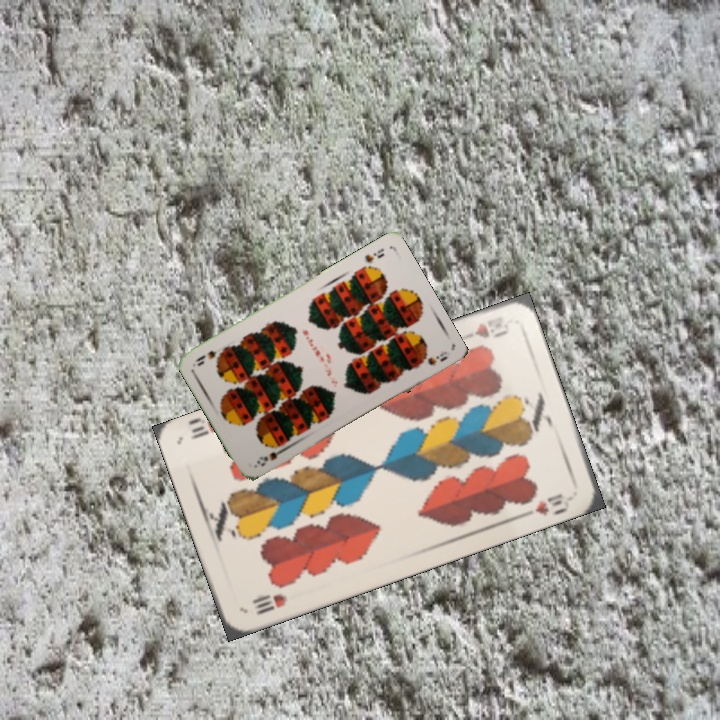H10: (248, 590, 290, 618), (471, 319, 511, 341)
S9: (252, 443, 289, 469), (361, 244, 387, 265)
